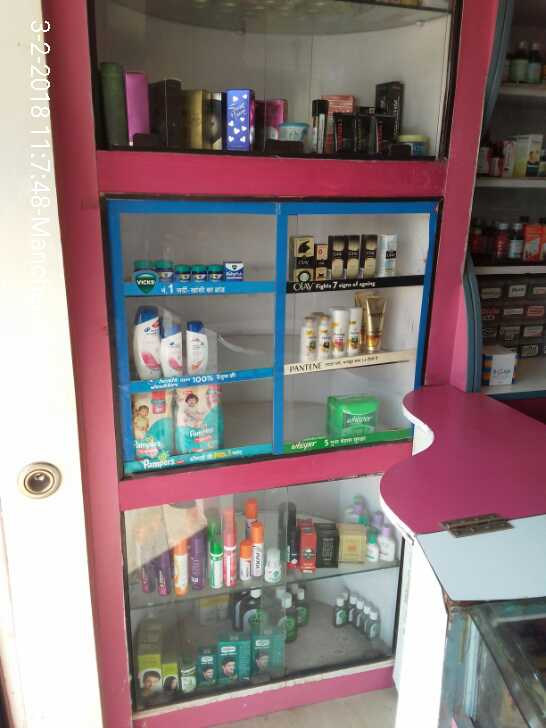vicks: (132, 247, 259, 287)
